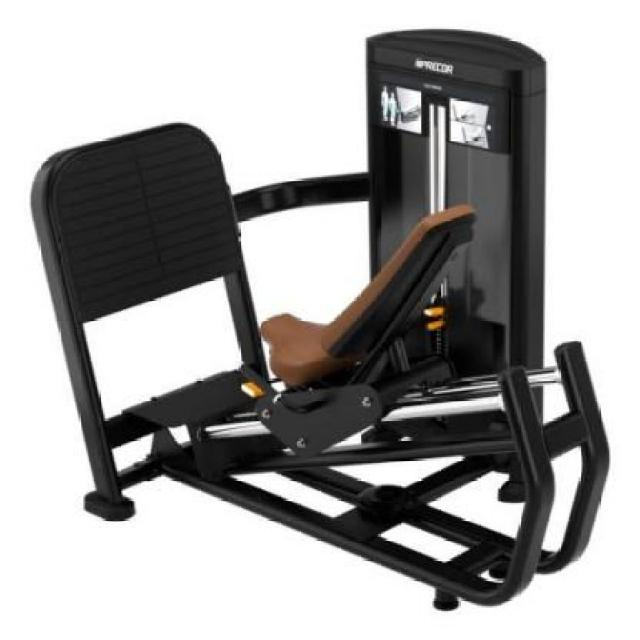leg press: (21, 23, 638, 615)
